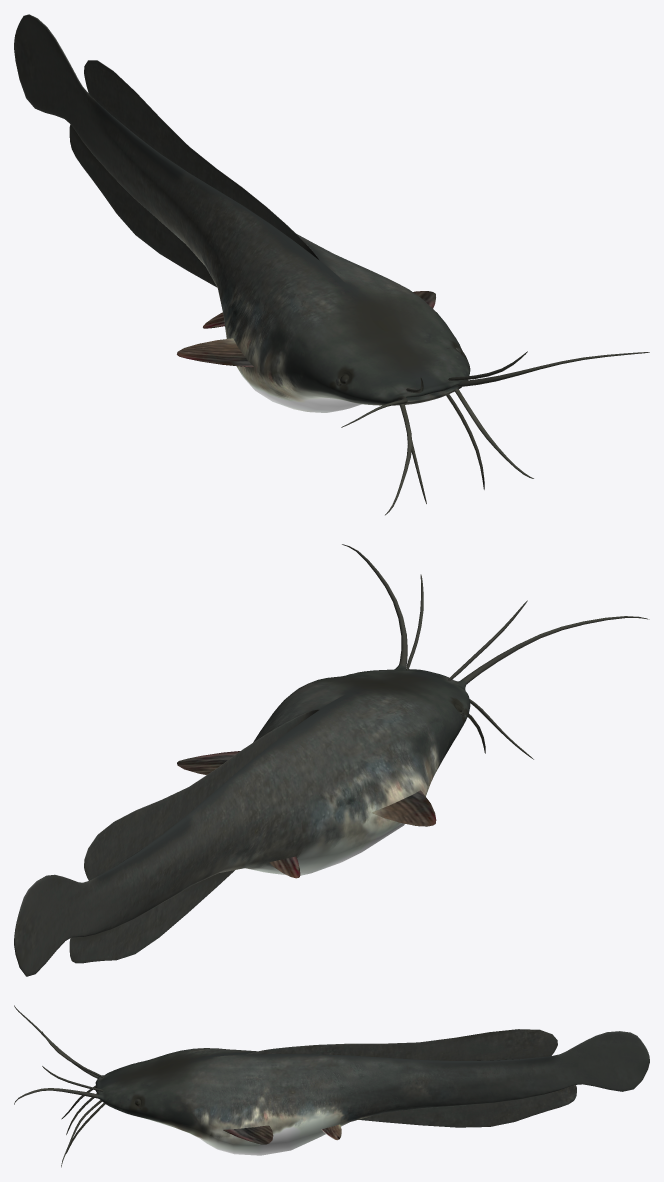
The model's file is kembung.fbx.
The picture shows the model from 3 angles, top to bottom: view 1: azimuth 30°, elevation 25°; view 2: azimuth 150°, elevation 25°; view 3: azimuth 270°, elevation 25°; orthographic projection. The views are drawn at different scales.
Parts seen in each view (by area): view 1: Cube; view 2: Cube; view 3: Cube.
Part boxes in pixels (box(x1,y1,x2,y2)): Cube: box(14, 14, 649, 515); Cube: box(14, 544, 649, 976); Cube: box(14, 1005, 649, 1167).
Bounding box in the file's own units: 532 × 302 × 1436.
Materials: 1 (1 with a texture image).
